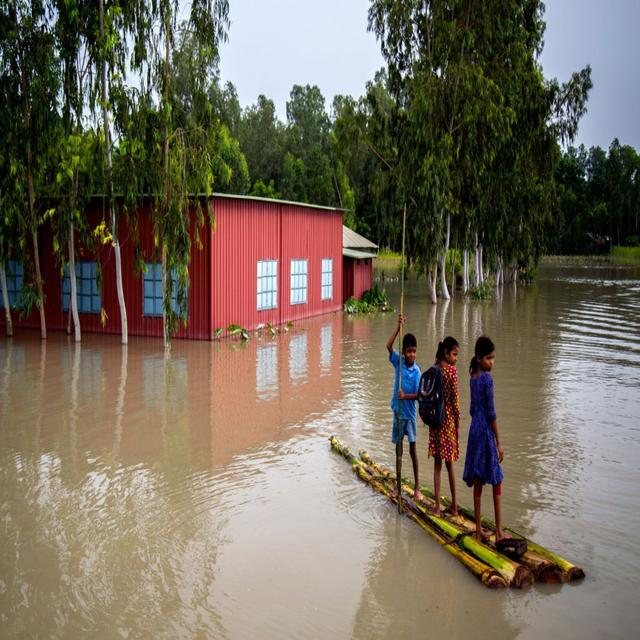Person-RiskLevel3: (463, 337, 517, 546), (379, 315, 425, 509), (423, 334, 463, 527)
